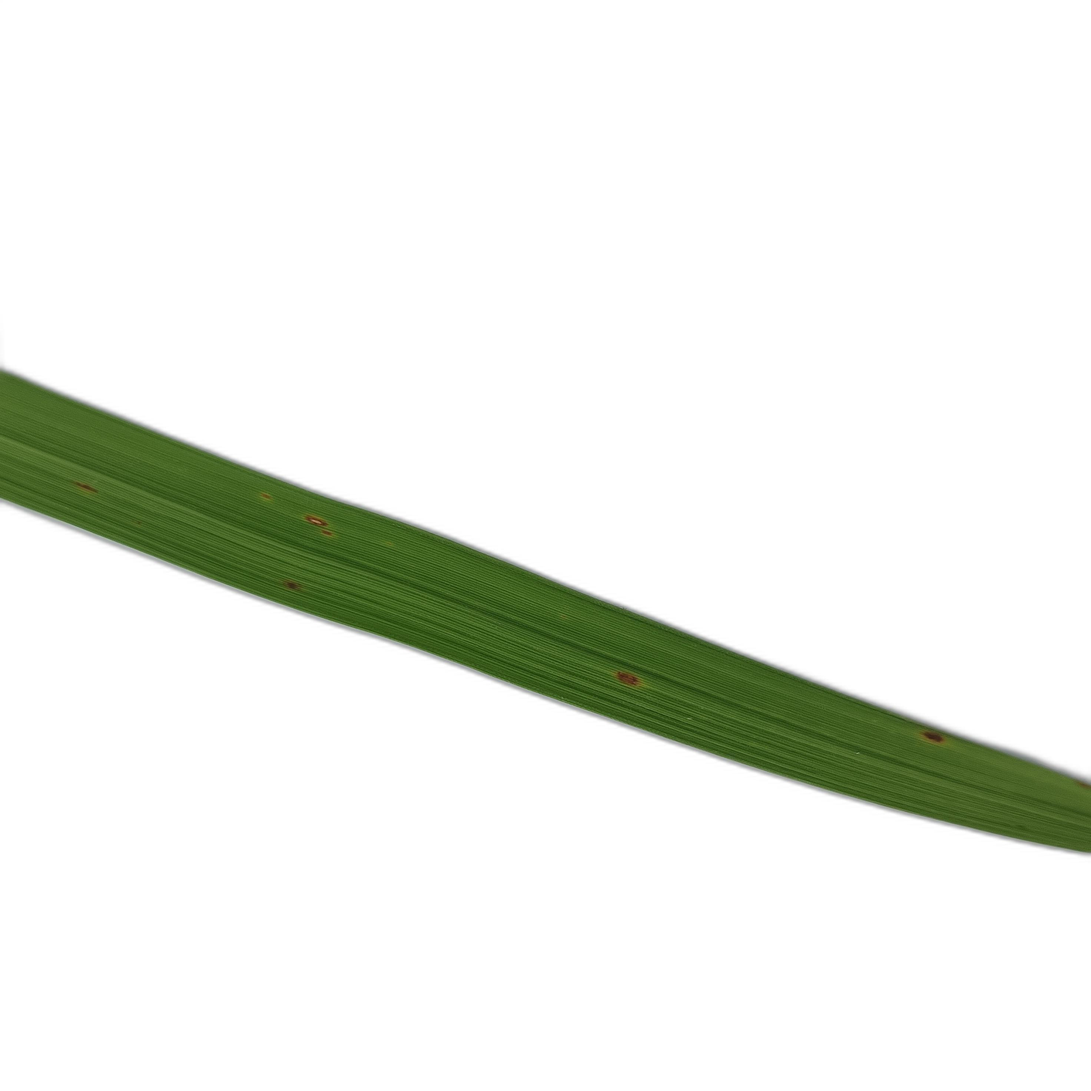LEAF BLAST: (616, 671, 641, 686), (921, 731, 946, 744), (305, 515, 329, 526)
